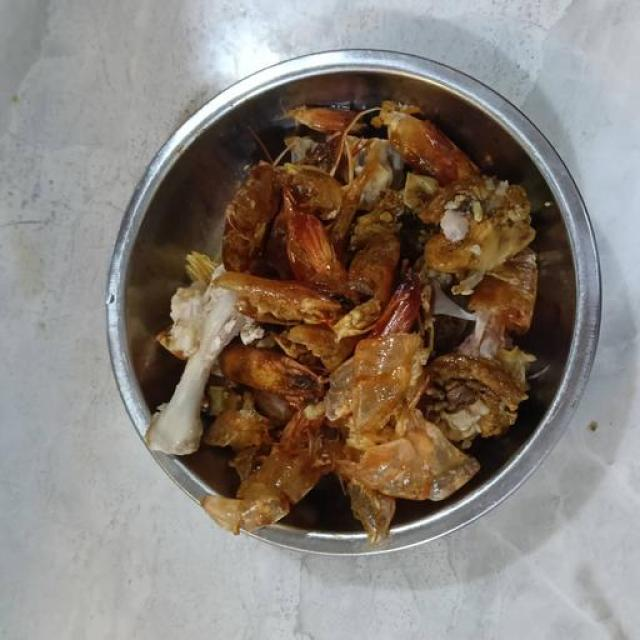organic: (148, 43, 600, 562)
